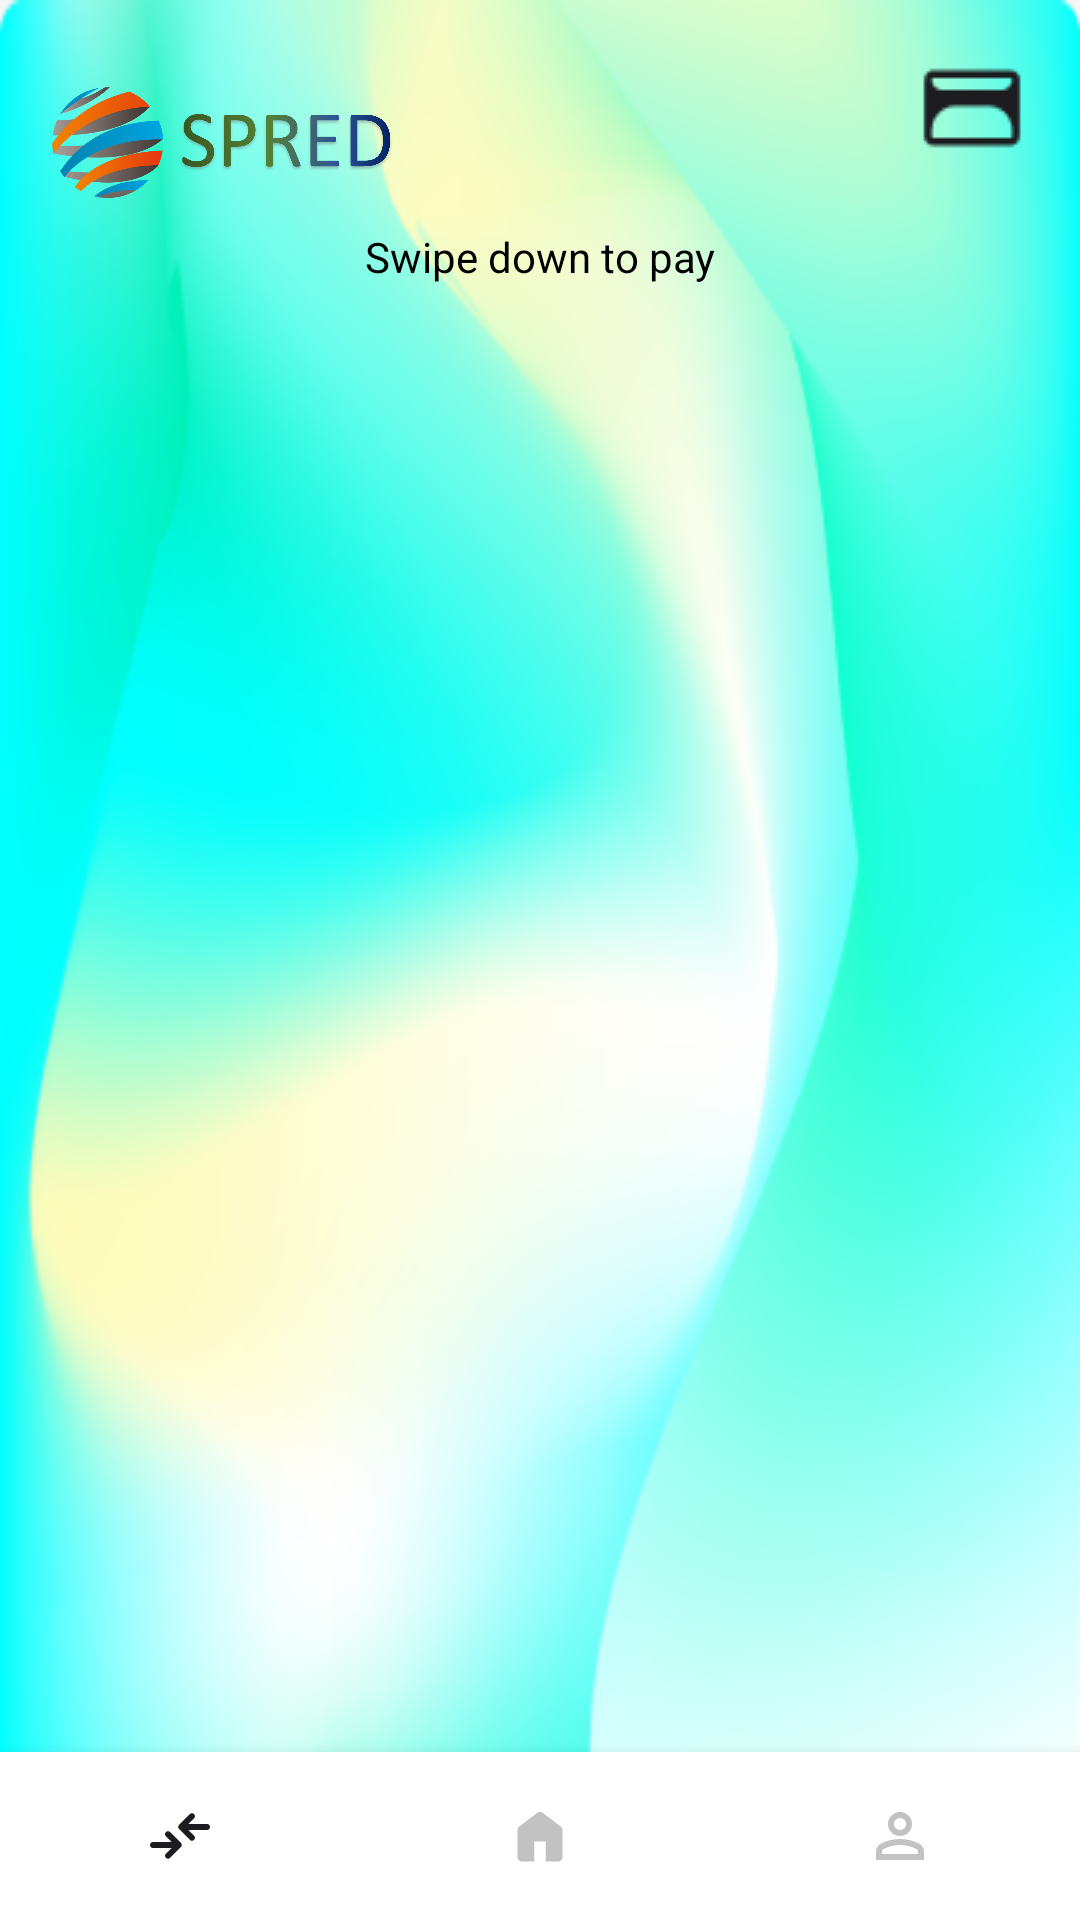

Icon click points for this 1080x1920 phone screenshot, format [x,y]:
credit card: [972,108]
